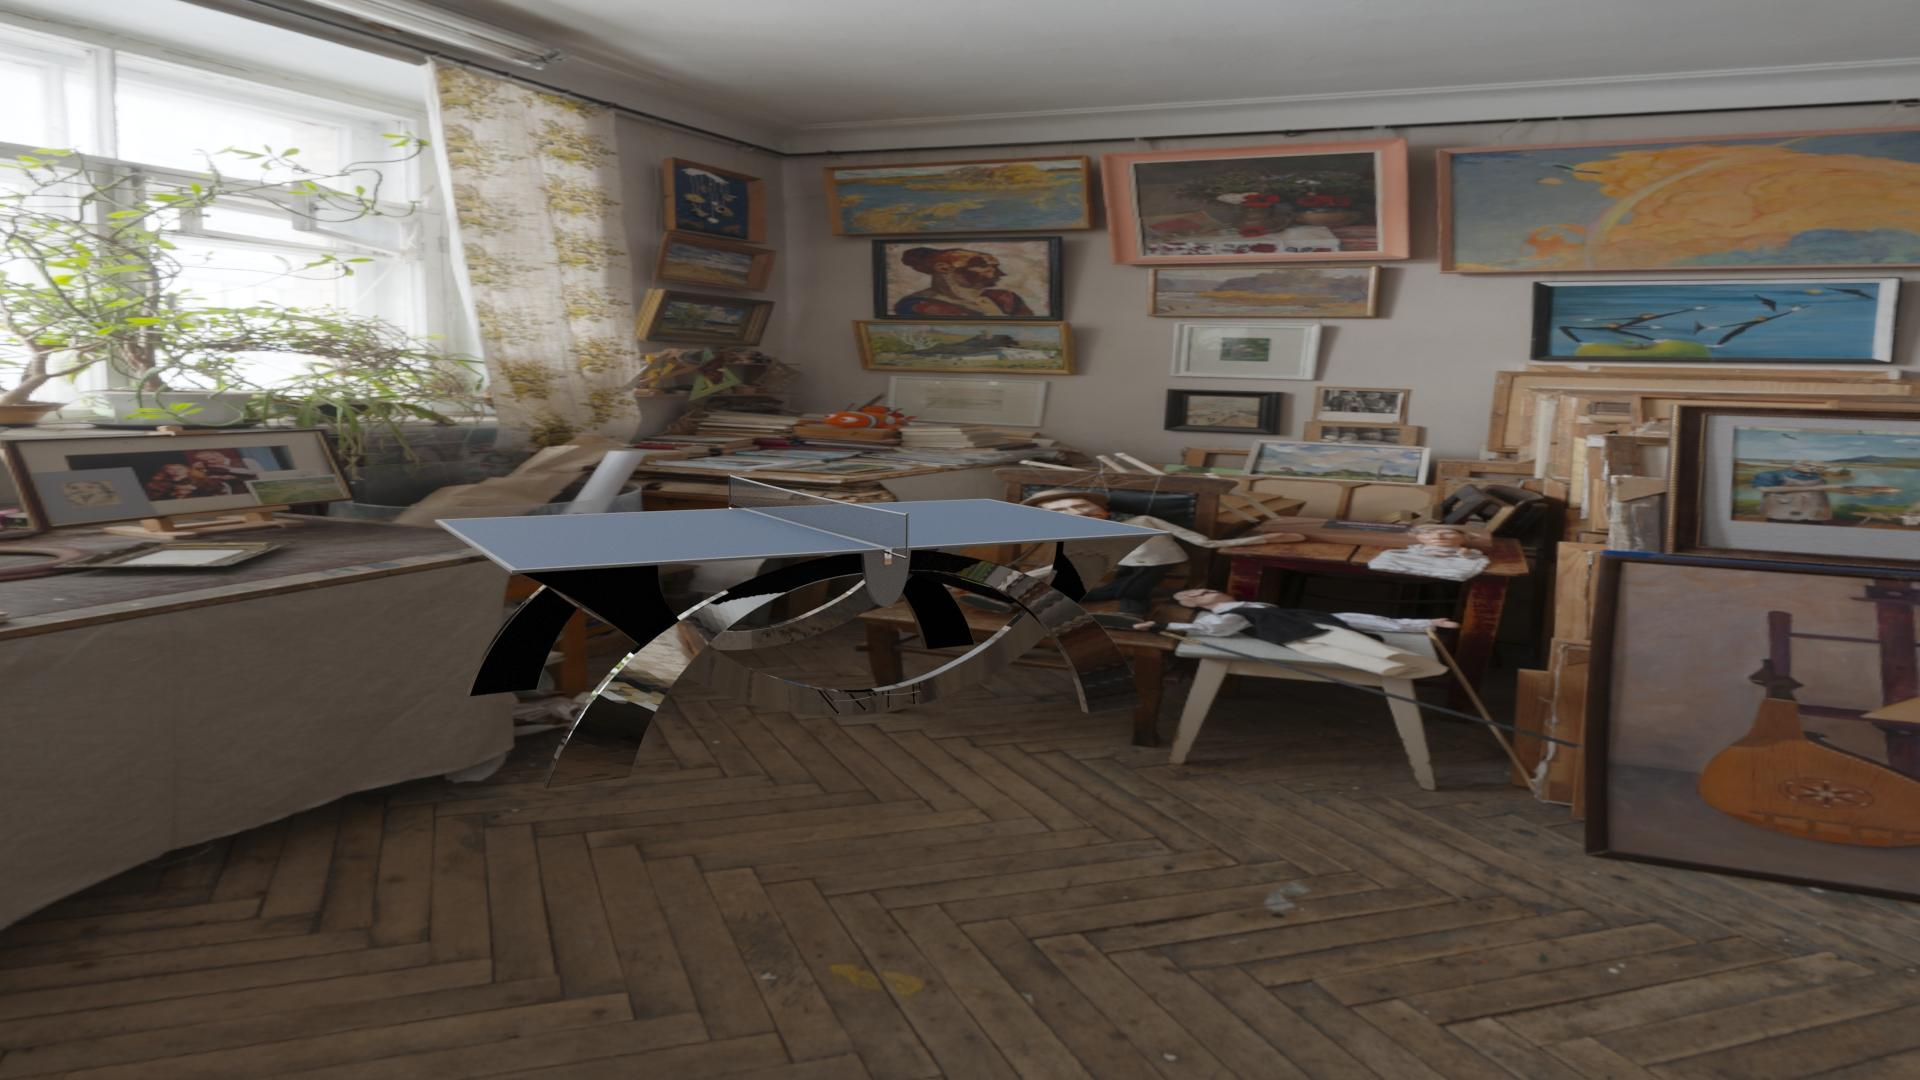table: (440, 500, 1166, 570)
